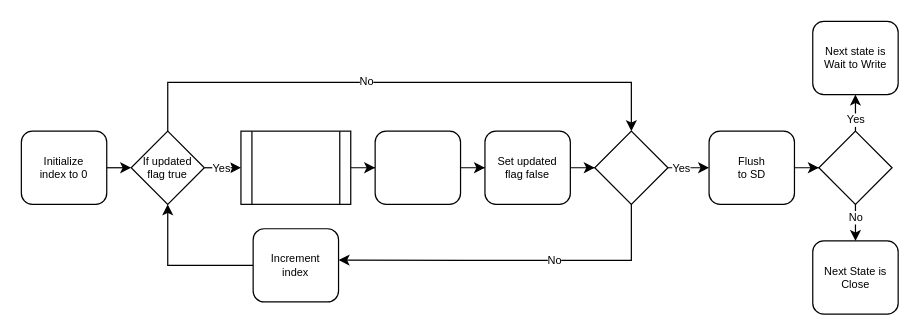
The diagram is 920 pixels wide and 336 high, and some of its shapes have lost their labels. Each missing label, with the centre of its shape:
"Build Packet" goes at point (295, 167).
"If index > max index" goes at point (631, 167).
"If logging" goes at point (855, 167).
"Write to SD" goes at point (417, 167).
